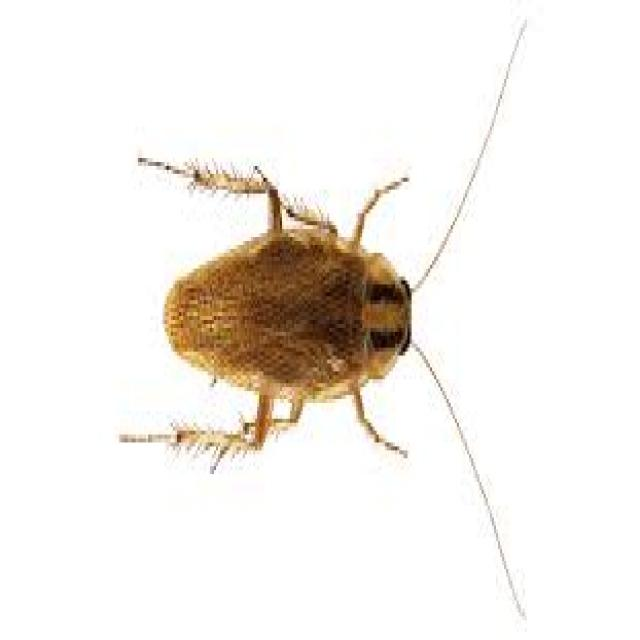Cockroach: (108, 13, 532, 615)
